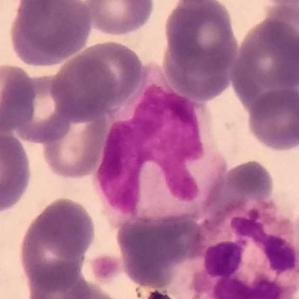Monocyte: (96, 66, 230, 222)
Neutrophil: (187, 200, 299, 299)
Platelets: (85, 246, 121, 282), (138, 288, 175, 299)
RBC: (15, 194, 98, 293), (115, 213, 206, 285), (38, 96, 113, 182), (162, 0, 240, 75), (228, 17, 299, 98), (68, 38, 146, 111), (8, 70, 79, 146), (13, 0, 97, 63), (49, 51, 120, 122), (245, 86, 299, 153), (21, 268, 133, 299), (0, 128, 36, 216), (0, 59, 38, 138), (80, 0, 156, 38), (261, 2, 299, 66), (222, 158, 276, 202)
